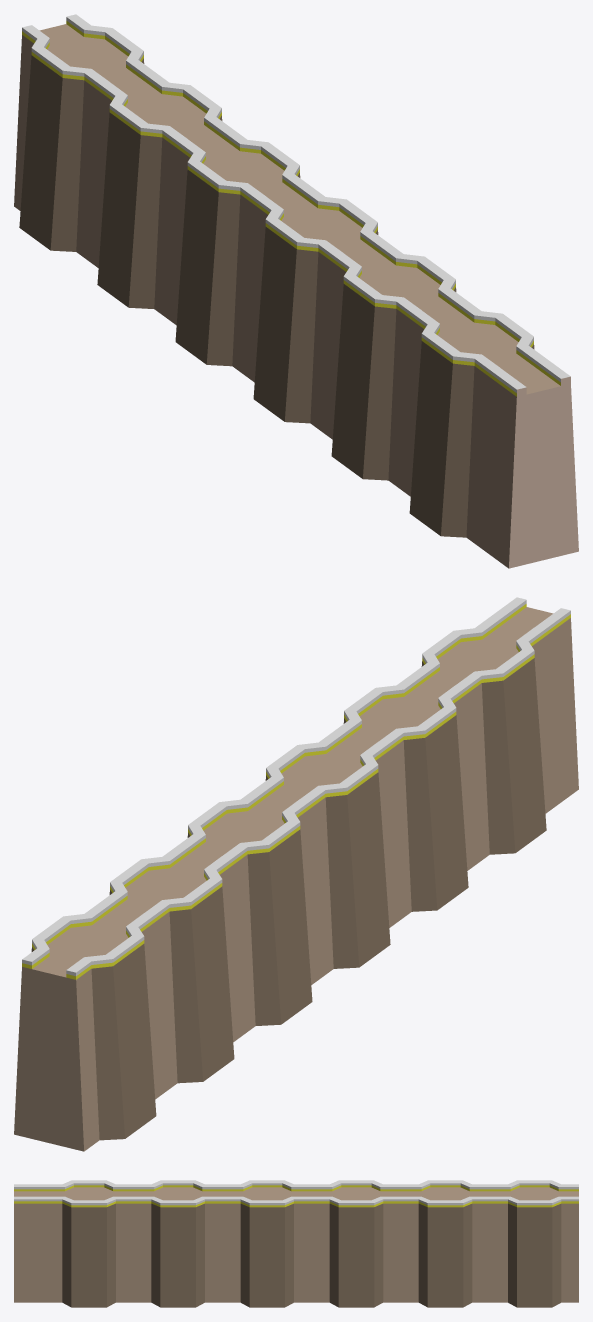
Rendered from DustCitySmallRempart.fbx.
3 views of the same model, one above another, from view 1: azimuth 30°, elevation 25°; view 2: azimuth 150°, elevation 25°; view 3: azimuth 270°, elevation 25° (orthographic). The views are drawn at different scales.
Parts seen in each view (by area): view 1: DustCityRempart_SmallRempart; view 2: DustCityRempart_SmallRempart; view 3: DustCityRempart_SmallRempart.
Boxes of the visible parts, left/top/right/bottom form: DustCityRempart_SmallRempart: left=14, top=14, right=578, bottom=568; DustCityRempart_SmallRempart: left=14, top=597, right=578, bottom=1151; DustCityRempart_SmallRempart: left=14, top=1180, right=578, bottom=1307.
Size of the model in its own units: 97.31 by 156 by 793.
